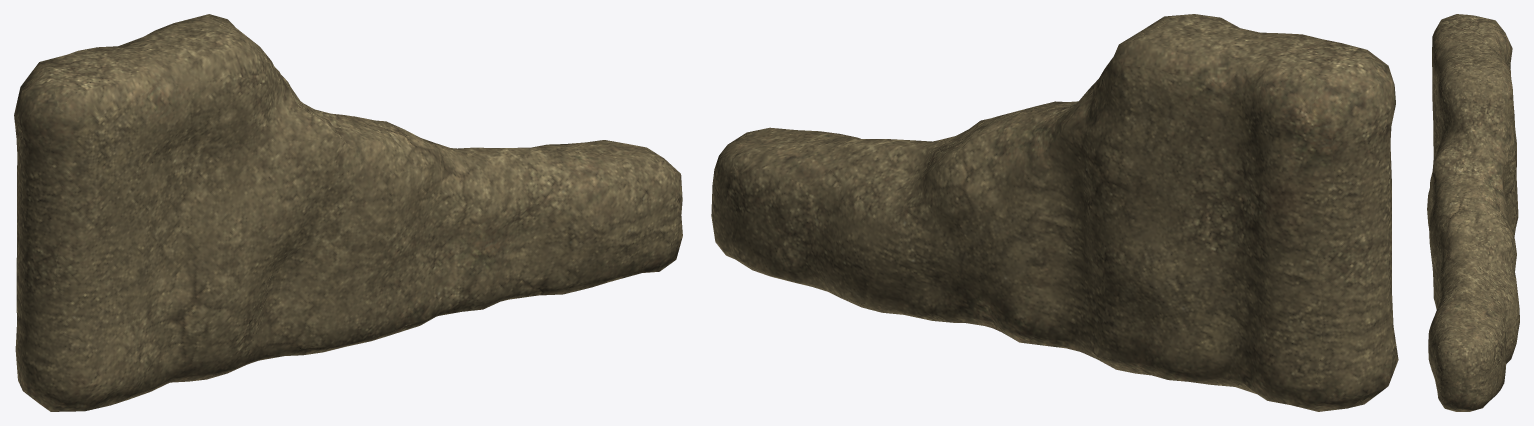
Rendered from CaveWalls2_B.obj.
3 renders of one model, left to right at view 1: azimuth 30°, elevation 25°; view 2: azimuth 150°, elevation 25°; view 3: azimuth 270°, elevation 25°, orthographic. The views are drawn at different scales.
Parts seen in each view (by area): view 1: CaveWalls2B; view 2: CaveWalls2B; view 3: CaveWalls2B.
Boxes of the visible parts, x1,y1,x2,y2 form: CaveWalls2B: (14, 14, 682, 411); CaveWalls2B: (711, 14, 1398, 411); CaveWalls2B: (1427, 14, 1519, 411).
Bounding box in the file's own units: 68.81 × 33.43 × 13.22.
Materials: 1 (1 with a texture image).
